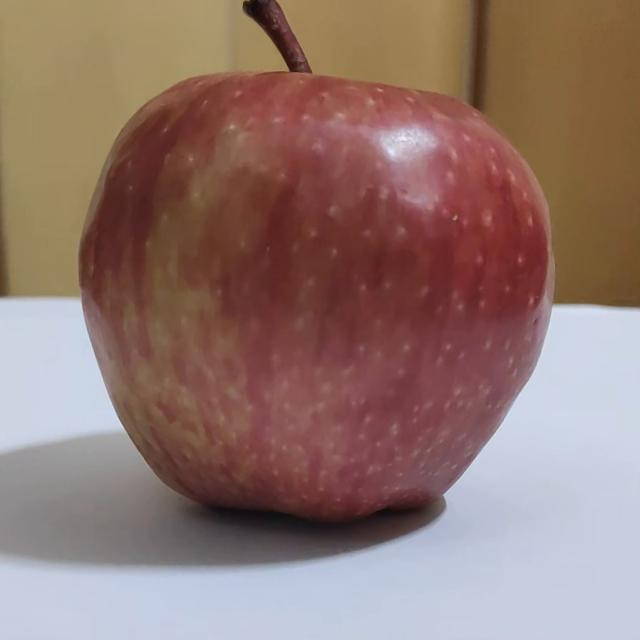apple: (72, 0, 557, 533)
